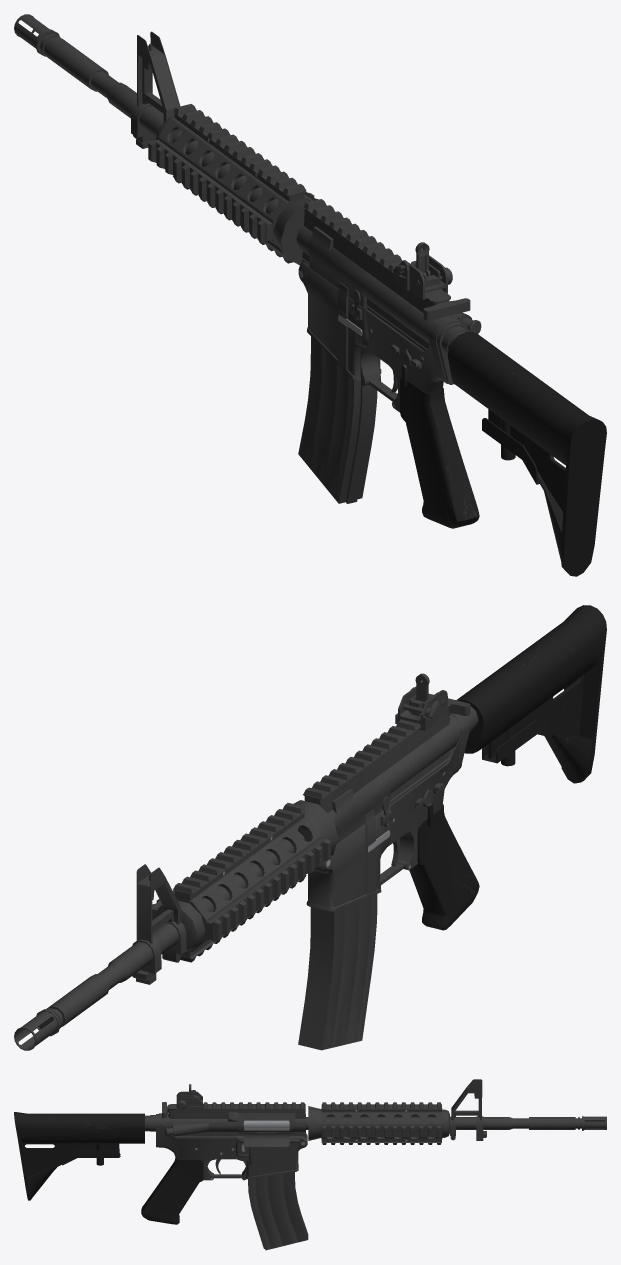
3 renders of one model, top to bottom at view 1: azimuth 30°, elevation 25°; view 2: azimuth 150°, elevation 25°; view 3: azimuth 270°, elevation 25°, orthographic. The views are drawn at different scales.
Parts seen in each view (by area): view 1: Base, Barrel, Stock, Magazine, Sight; view 2: Base, Barrel, Stock, Magazine, Sight; view 3: Base, Barrel, Stock, Magazine, Ejector_Lid, Sight, Ejector.
Boxes of the visible parts, <box> form: Base: <box>296,199,481,528</box>; Barrel: <box>14,14,318,265</box>; Stock: <box>441,326,606,576</box>; Magazine: <box>298,336,377,503</box>; Sight: <box>395,242,447,299</box>; Base: <box>303,702,479,930</box>; Barrel: <box>14,800,338,1050</box>; Stock: <box>456,605,606,783</box>; Magazine: <box>298,894,377,1050</box>; Sight: <box>395,673,447,730</box>; Base: <box>141,1102,307,1224</box>; Barrel: <box>306,1079,606,1144</box>; Stock: <box>14,1112,155,1200</box>; Magazine: <box>248,1172,308,1250</box>; Ejector_Lid: <box>237,1132,296,1146</box>; Sight: <box>176,1084,202,1111</box>; Ejector: <box>243,1120,289,1128</box>.
Bounding box in the file's own units: 0.0636 × 0.2663 × 0.8588.
3 materials, 1 textured.
